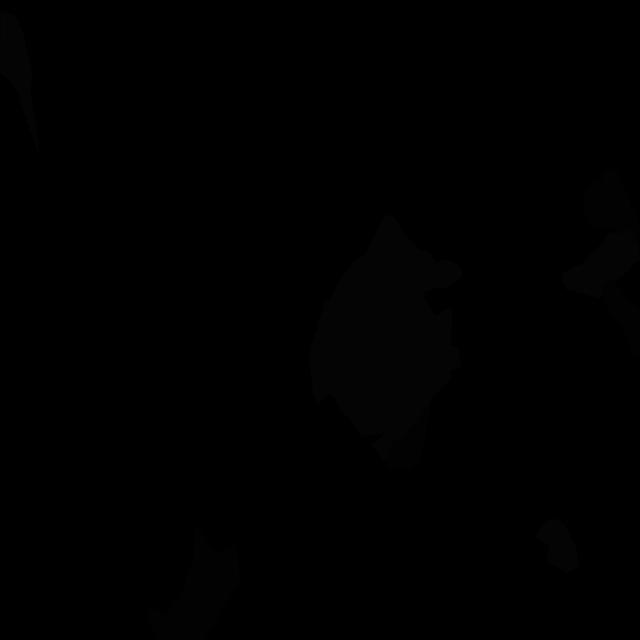cardboard: (146, 525, 240, 640), (583, 168, 640, 244), (384, 399, 432, 472), (603, 281, 640, 358)
soft_plastic: (310, 214, 463, 463), (0, 11, 39, 157), (560, 228, 640, 298), (535, 518, 580, 573)
